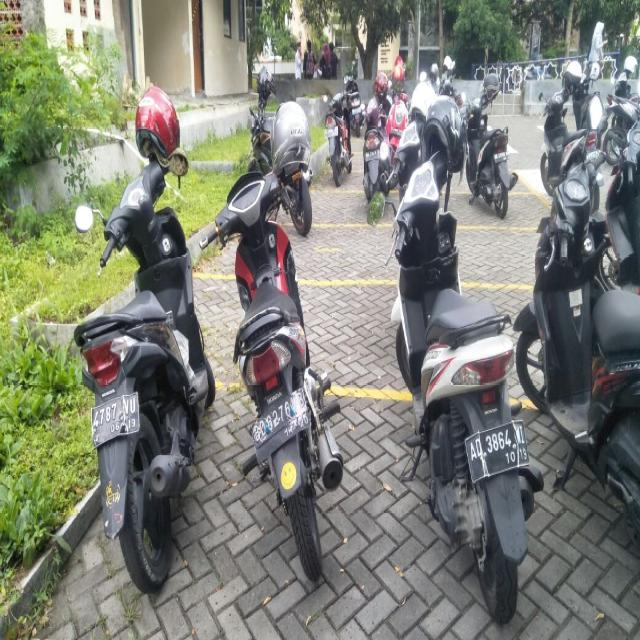plate: (250, 385, 308, 466), (466, 417, 529, 482), (91, 390, 140, 446)
